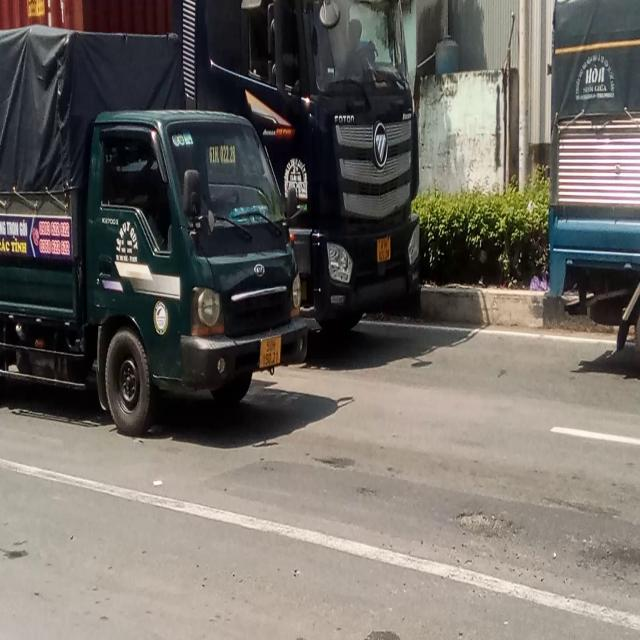bien_vang: (257, 332, 285, 374), (372, 234, 394, 265)
